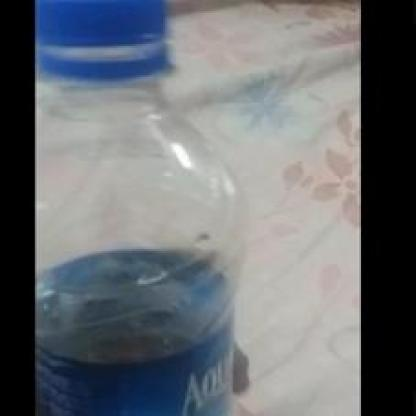bottle: (41, 17, 244, 395)
